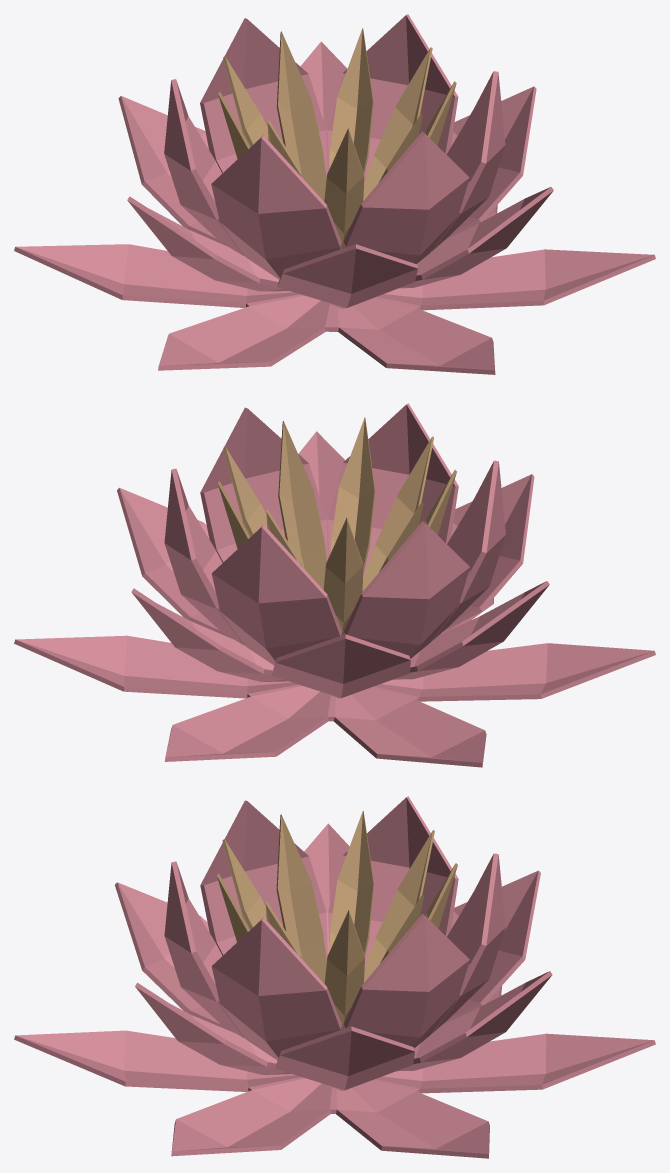
Rendered from lily.fbx.
3 views of the same model, one above another, from view 1: azimuth 30°, elevation 25°; view 2: azimuth 150°, elevation 25°; view 3: azimuth 270°, elevation 25° (orthographic).
Parts seen in each view (by area): view 1: Cube.004; view 2: Cube.004; view 3: Cube.004.
Part boxes in pixels (x1,y1,x2,y2): Cube.004: [14, 14, 655, 374]; Cube.004: [14, 403, 655, 767]; Cube.004: [14, 796, 655, 1158].
Bounding box in the file's own units: 918 × 404 × 1036.
